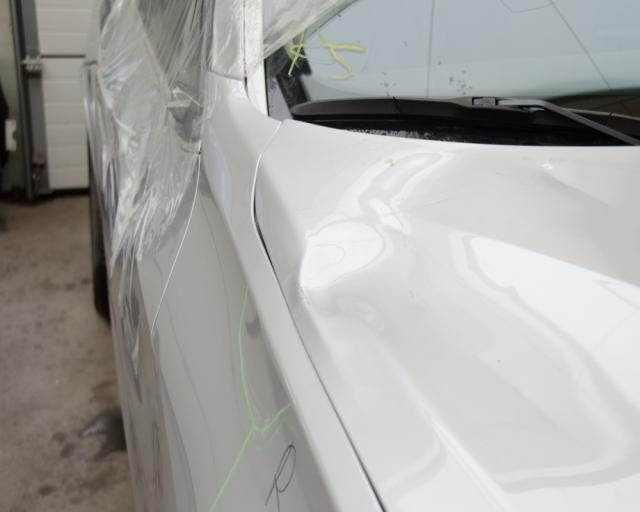dent: (302, 211, 639, 484), (534, 159, 627, 210)
